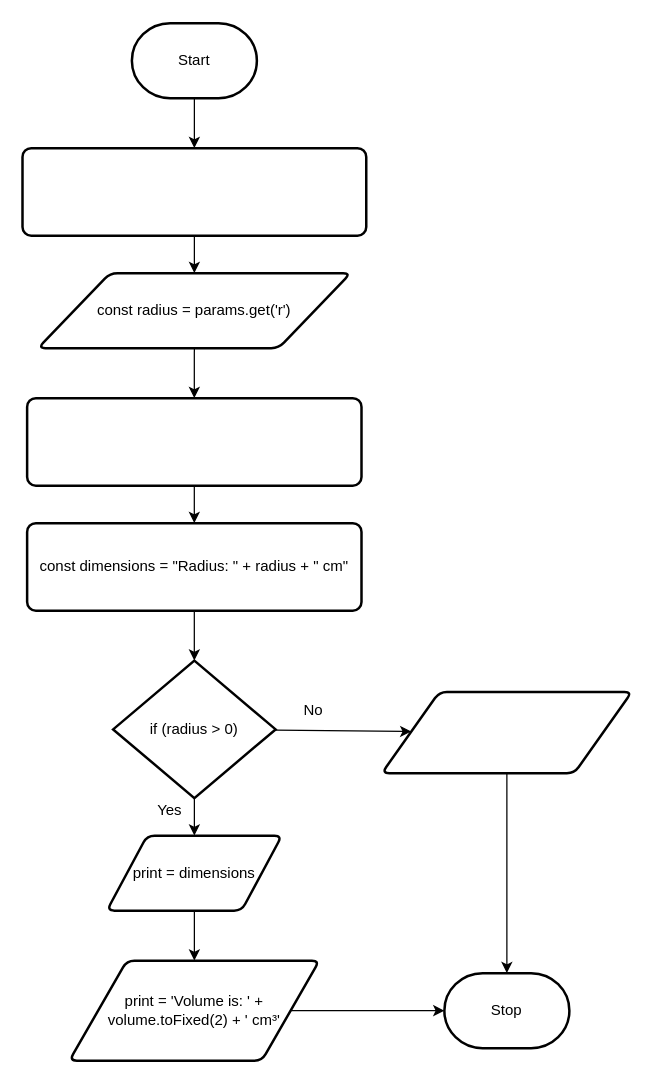
Image size: 655x1083. Some labels were removed from this diagram. Each missing label, with the centre of its shape:
const params = new URLSearchParams(document.location.search): (x=194, y=191)
const volume = (4 / 3) * Math.PI * Math.pow(radius, 3): (x=193, y=441)
print = 'Volume is NaN.': (x=506, y=732)
